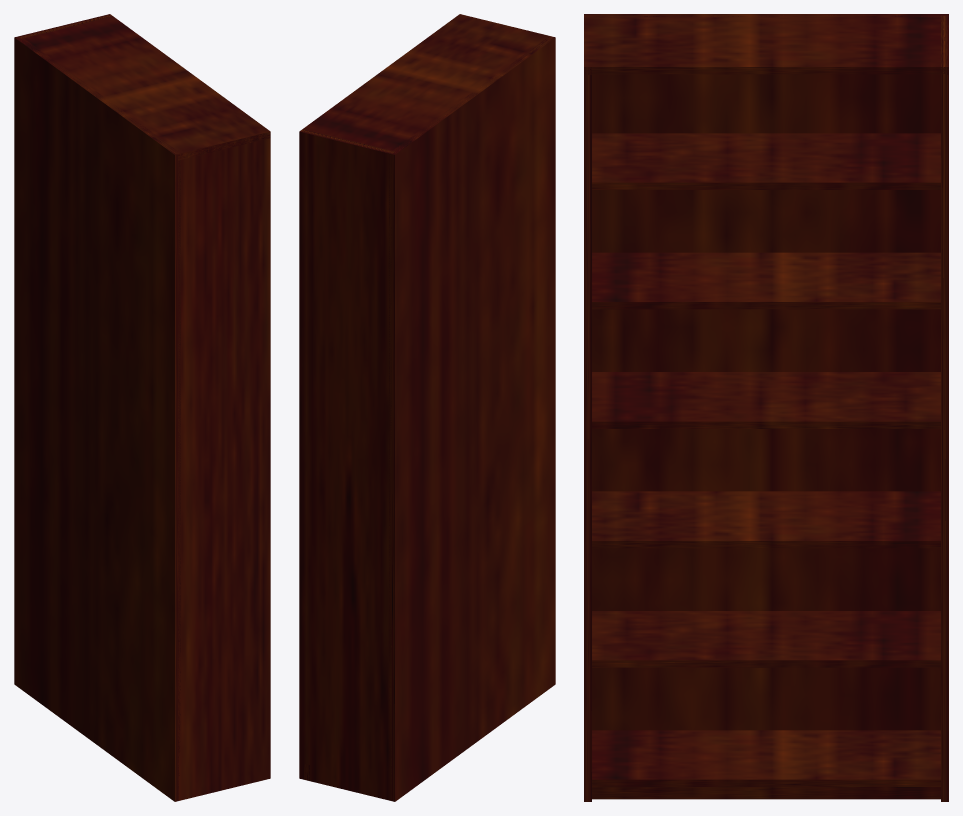
The model's file is book_shelf_wt_test4.fbx.
3 views of the same model, side by side, from view 1: azimuth 30°, elevation 25°; view 2: azimuth 150°, elevation 25°; view 3: azimuth 270°, elevation 25° (orthographic). The views are drawn at different scales.
Parts seen in each view (by area): view 1: back, left, Top; view 2: back, right, Top; view 3: back, Top, shelf.003, shelf.004, shelf, shelf.001, shelf.002, shelf.005, right, left, kick plate.
Part boxes in pixels (x1,y1,x2,y2): back: [14, 36, 180, 801]; left: [178, 138, 270, 800]; Top: [23, 16, 270, 160]; back: [389, 36, 555, 801]; right: [299, 129, 395, 800]; Top: [303, 14, 548, 151]; back: [584, 14, 948, 730]; Top: [584, 15, 948, 74]; shelf.003: [592, 491, 940, 548]; shelf.004: [592, 252, 940, 309]; shelf: [592, 730, 940, 786]; shelf.001: [592, 372, 940, 428]; shelf.002: [592, 611, 940, 667]; shelf.005: [592, 133, 940, 189]; right: [941, 15, 948, 801]; left: [584, 67, 591, 801]; kick plate: [592, 787, 940, 799].
Bounding box in the file's own units: 31 × 200 × 90.
Materials: 1 (1 with a texture image).
